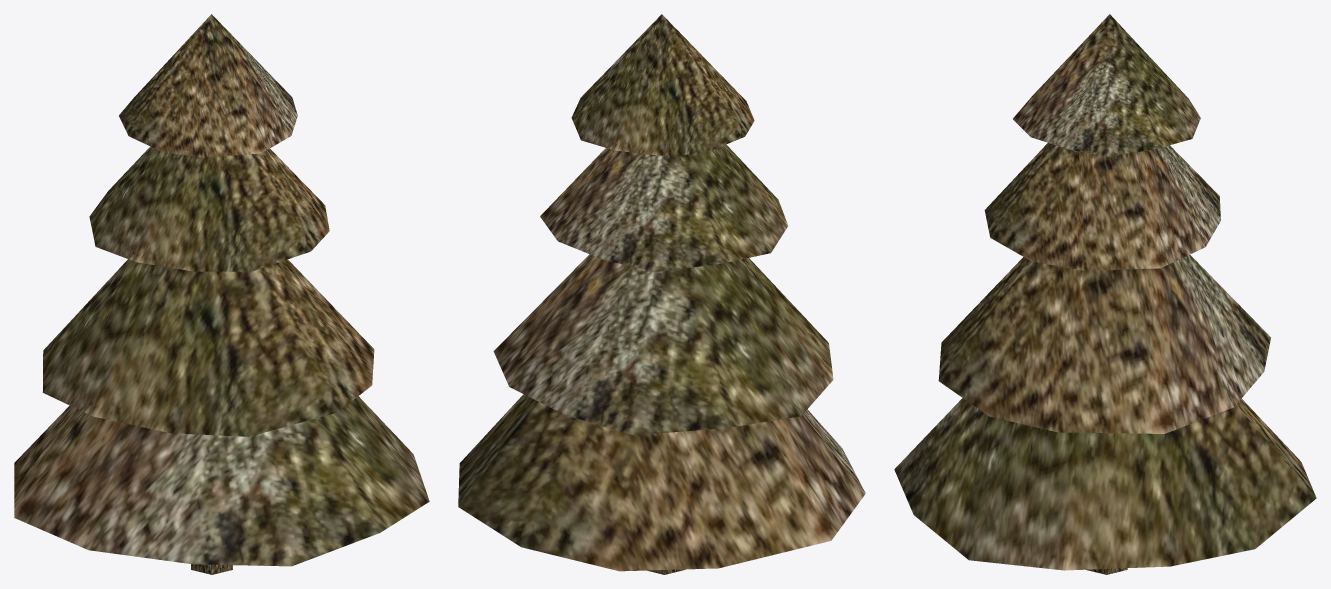
3 views of the same model, side by side, from view 1: azimuth 30°, elevation 25°; view 2: azimuth 150°, elevation 25°; view 3: azimuth 270°, elevation 25° (orthographic).
Parts seen in each view (by area): view 1: 2_Cluster5; view 2: 2_Cluster5; view 3: 2_Cluster5.
Boxes of the visible parts, x1,y1,x2,y2 form: 2_Cluster5: [14, 14, 429, 566]; 2_Cluster5: [458, 14, 865, 571]; 2_Cluster5: [894, 14, 1316, 570].
Bounding box in the file's own units: 80.26 × 116 × 80.79.
1 material, 1 textured.
